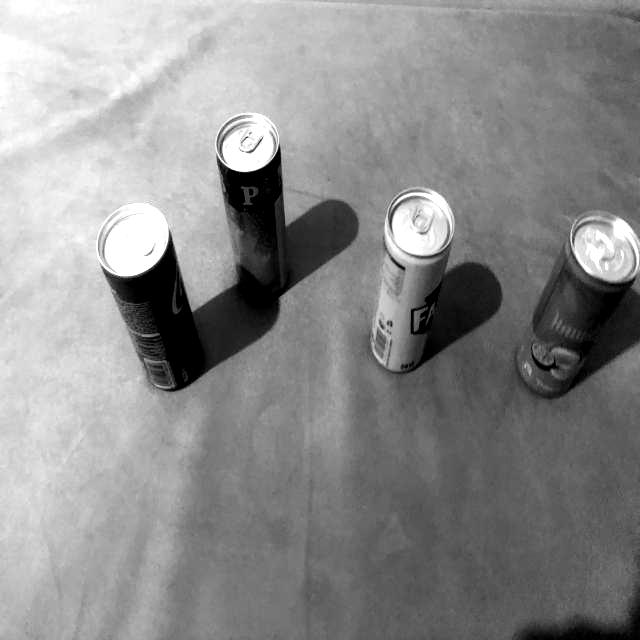metal: (509, 199, 638, 410), (86, 203, 209, 399), (362, 174, 458, 382), (205, 106, 292, 306)
